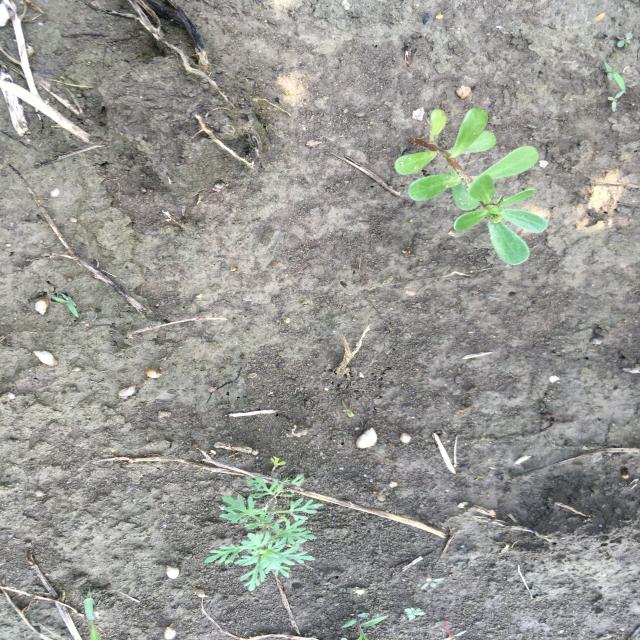Purslane: (392, 107, 549, 267)
Ragweed: (202, 473, 326, 594)
